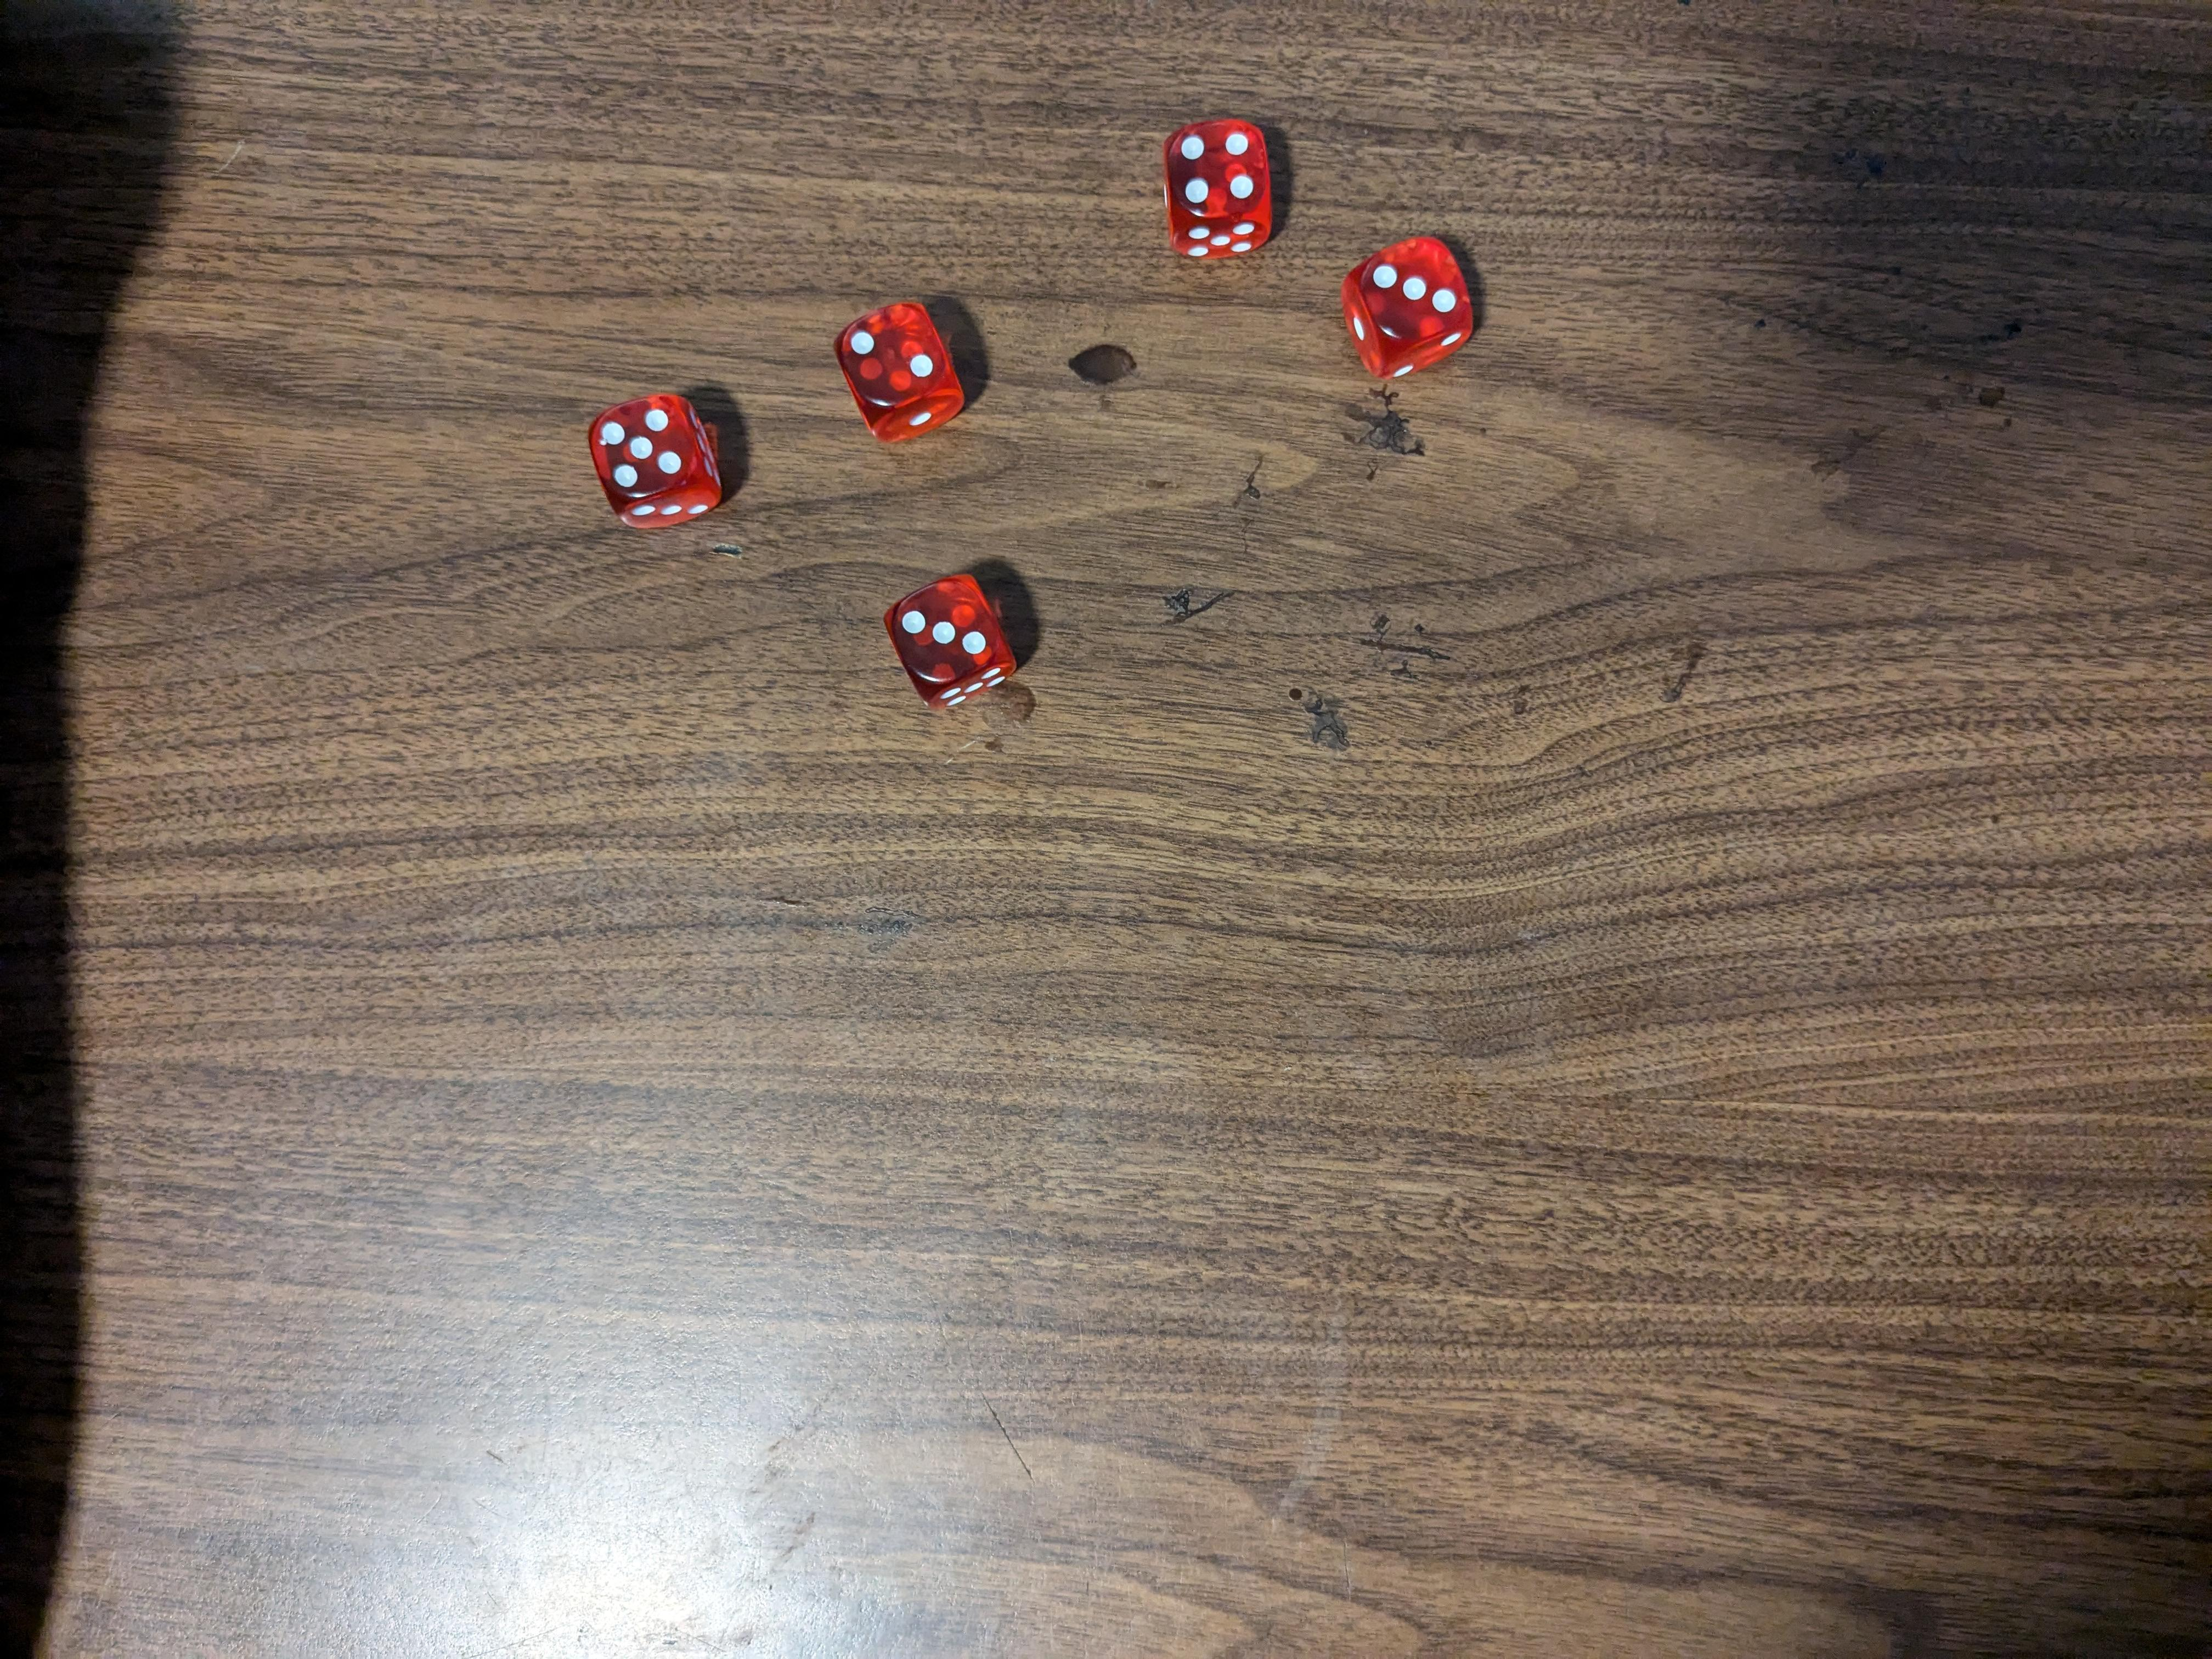five: (582, 390, 725, 535)
four: (1160, 112, 1277, 258)
three: (1341, 232, 1480, 382), (887, 570, 1026, 713)
two: (831, 293, 972, 444)
